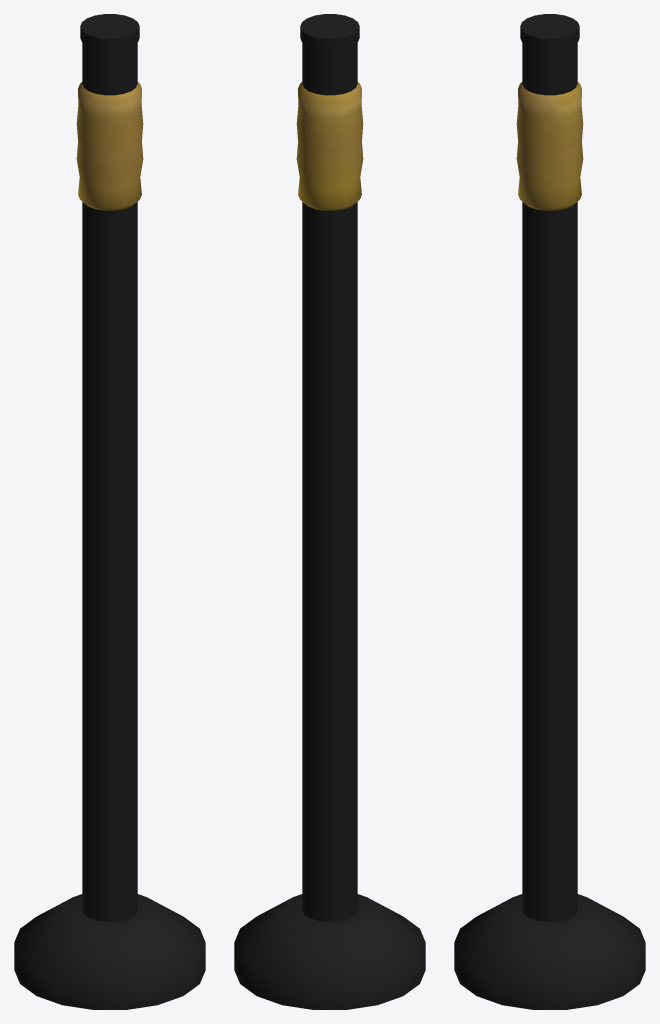
File: crime_tape_post_01.fbx
3 views of the same model, side by side, from view 1: azimuth 30°, elevation 25°; view 2: azimuth 150°, elevation 25°; view 3: azimuth 270°, elevation 25° (orthographic).
Parts seen in each view (by area): view 1: crime_tape_01; view 2: crime_tape_01; view 3: crime_tape_01.
Part boxes in pixels (left/top/right/bottom): crime_tape_01: left=14, top=14, right=205, bottom=1009; crime_tape_01: left=234, top=14, right=425, bottom=1009; crime_tape_01: left=454, top=14, right=645, bottom=1009.
Bounding box in the file's own units: 44.76 × 247 × 45.45.
